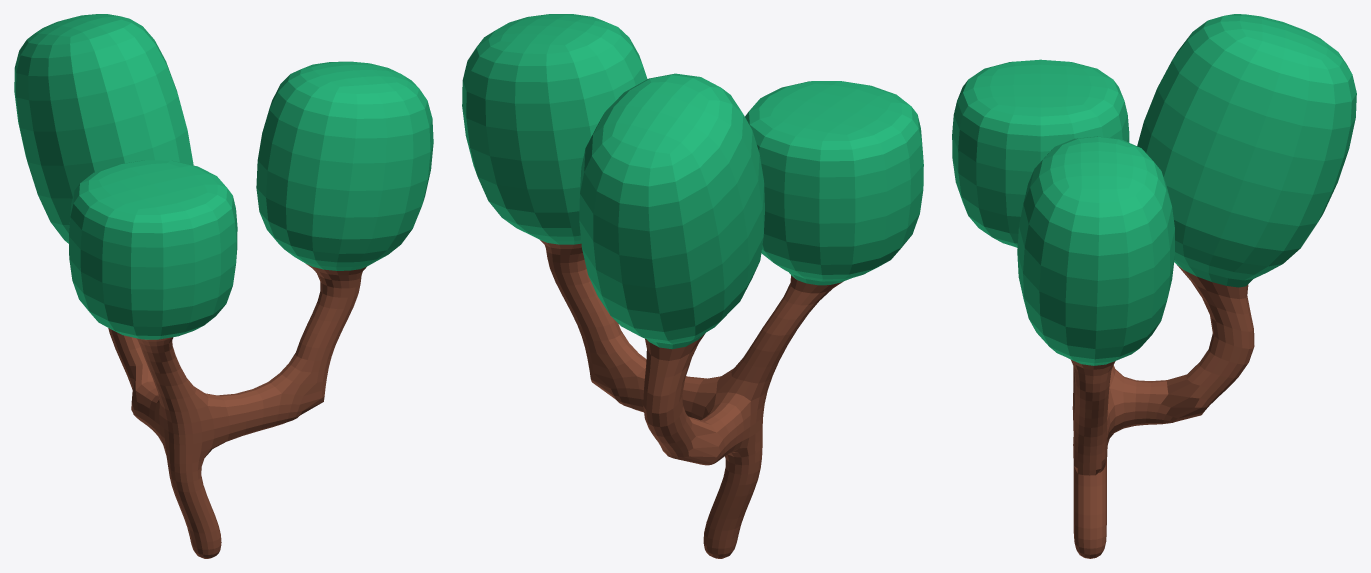
Rendered from tree_3.glb.
3 views of the same model, side by side, from view 1: azimuth 30°, elevation 25°; view 2: azimuth 150°, elevation 25°; view 3: azimuth 270°, elevation 25° (orthographic). The views are drawn at different scales.
Parts seen in each view (by area): view 1: Cube; view 2: Cube; view 3: Cube.
Boxes of the visible parts, x1,y1,x2,y2 form: Cube: (14,14,433,558); Cube: (462,14,923,558); Cube: (952,14,1356,558).
Bounding box in the file's own units: 24.03 × 30.31 × 21.52.
